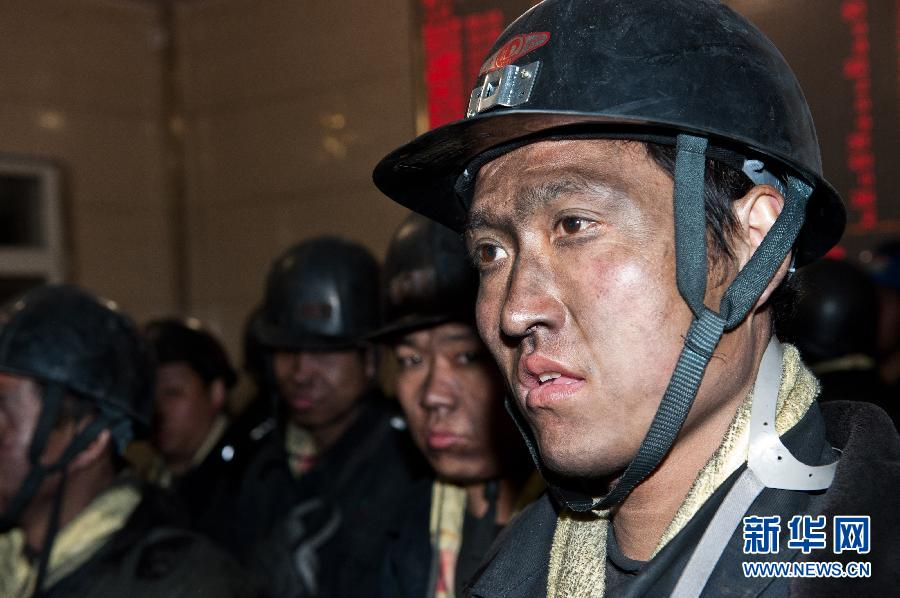helmet: (389, 3, 829, 464)
